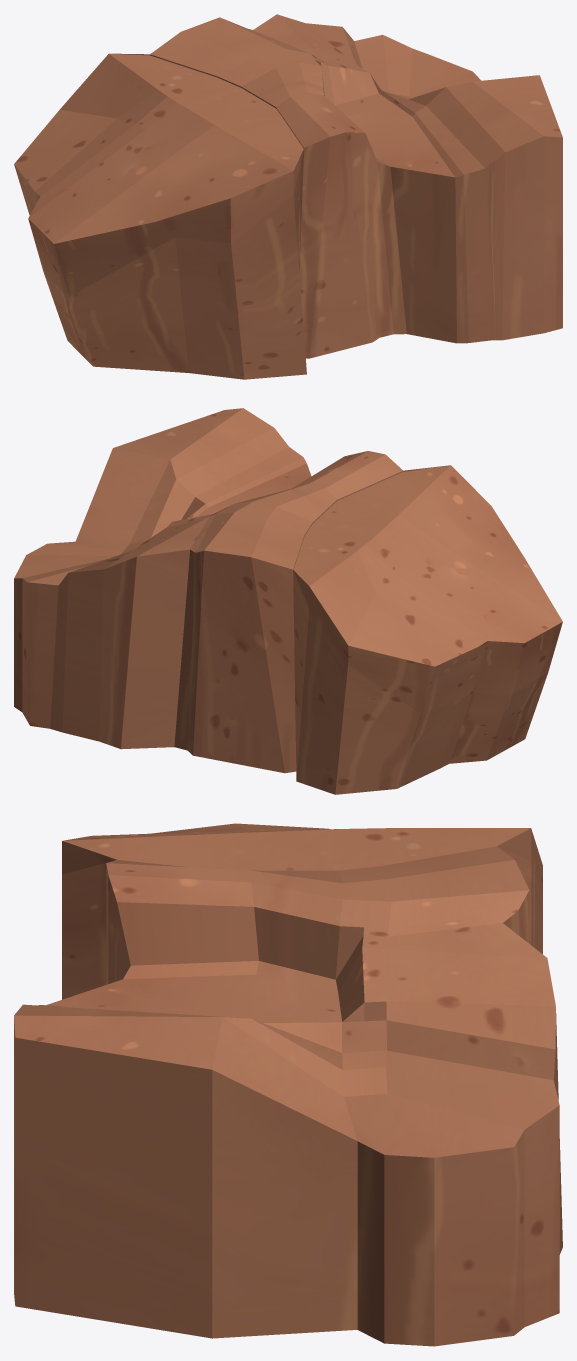
Rendered from big_rock05.fbx.
3 renders of one model, top to bottom at view 1: azimuth 30°, elevation 25°; view 2: azimuth 150°, elevation 25°; view 3: azimuth 270°, elevation 25°, orthographic. The views are drawn at different scales.
Parts seen in each view (by area): view 1: big_rock05; view 2: big_rock05; view 3: big_rock05.
Boxes of the visible parts, left/top/right/bottom form: big_rock05: left=14, top=14, right=562, bottom=379; big_rock05: left=14, top=408, right=562, bottom=794; big_rock05: left=14, top=823, right=562, bottom=1346.
Bounding box in the file's own units: 2.62 × 1.81 × 1.11.
